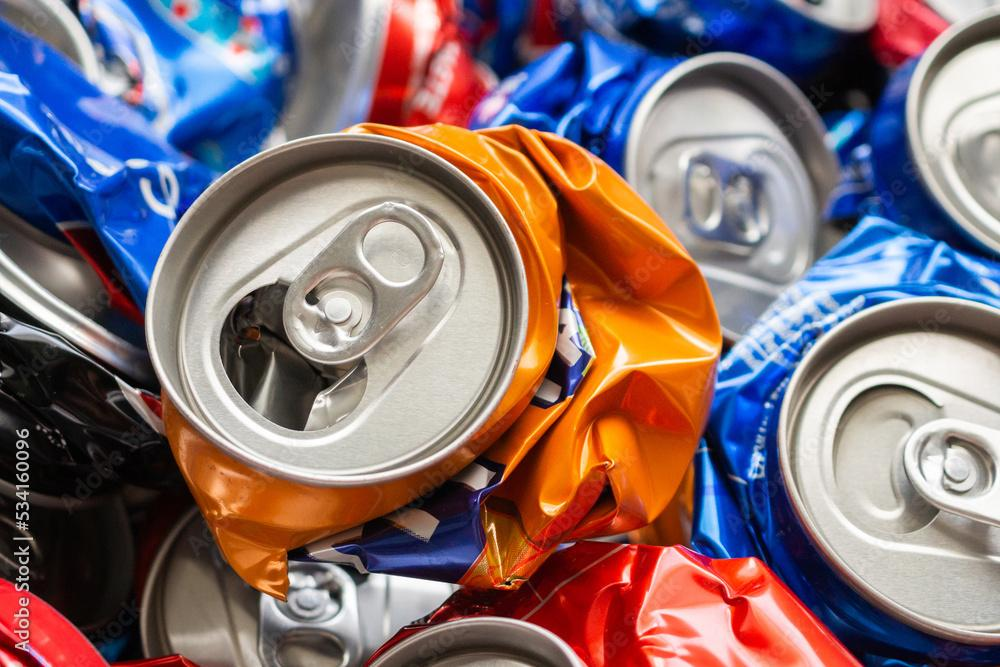metal: (147, 112, 719, 584), (680, 223, 1000, 667), (126, 505, 883, 667), (0, 0, 294, 389), (470, 23, 846, 323), (817, 0, 1000, 256), (281, 0, 482, 131)
